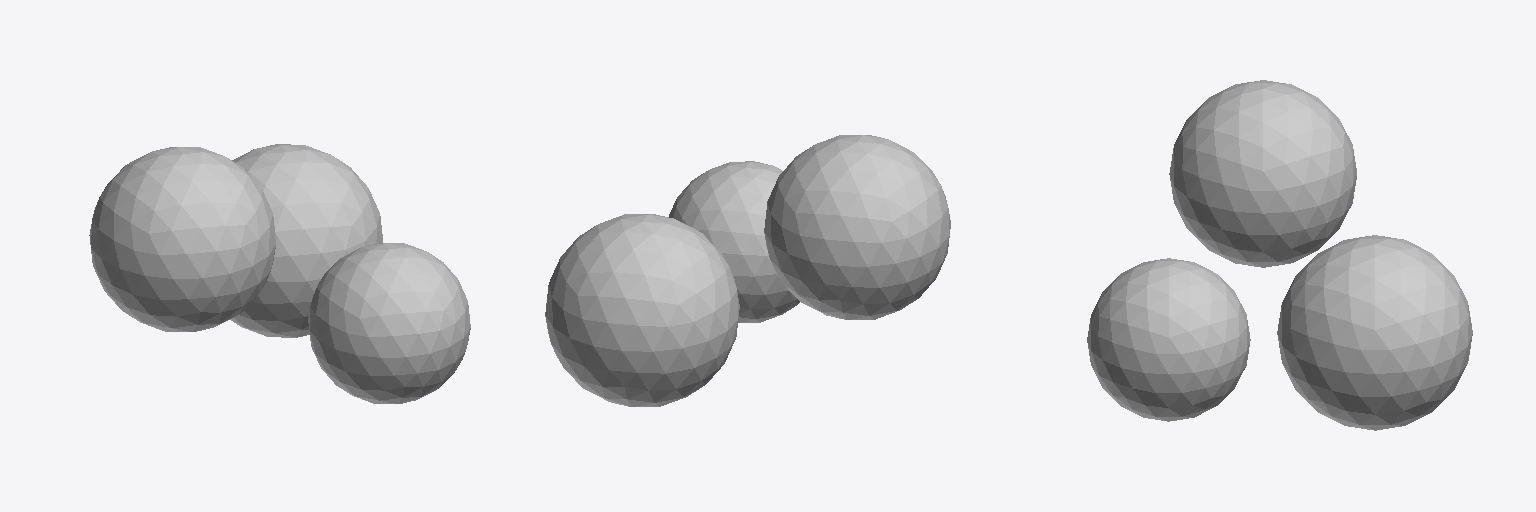
Rendered from spors.obj.
3 renders of one model, left to right at view 1: azimuth 30°, elevation 25°; view 2: azimuth 150°, elevation 25°; view 3: azimuth 270°, elevation 25°, orthographic.
Visible parts, largest first — view 1: Icosphere.001_Icosphere.007, Icosphere_Icosphere.006, Icosphere.002_Icosphere.008; view 2: Icosphere.002_Icosphere.008, Icosphere.001_Icosphere.007, Icosphere_Icosphere.006; view 3: Icosphere.002_Icosphere.008, Icosphere.001_Icosphere.007, Icosphere_Icosphere.006.
Boxes of the visible parts, x1,y1,x2,y2 form: Icosphere.001_Icosphere.007: [89, 147, 275, 331]; Icosphere_Icosphere.006: [308, 243, 470, 403]; Icosphere.002_Icosphere.008: [230, 144, 382, 337]; Icosphere.002_Icosphere.008: [545, 214, 739, 406]; Icosphere.001_Icosphere.007: [764, 135, 950, 319]; Icosphere_Icosphere.006: [669, 161, 799, 322]; Icosphere.002_Icosphere.008: [1277, 235, 1472, 430]; Icosphere.001_Icosphere.007: [1169, 80, 1356, 267]; Icosphere_Icosphere.006: [1087, 258, 1250, 421].
Bounding box in the file's own units: 1.87 × 1.4 × 1.92.